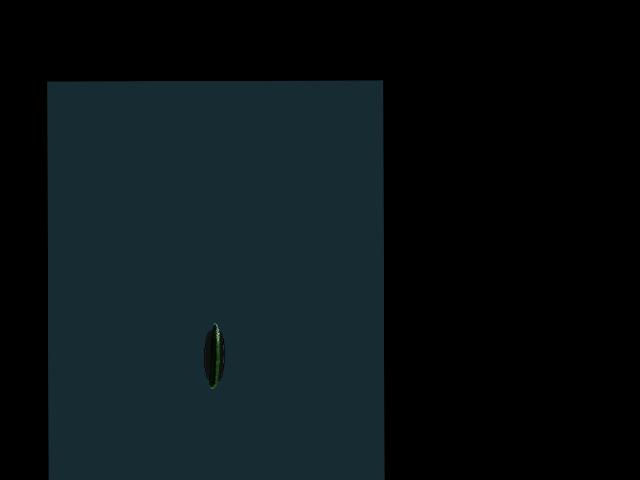cucumber: (208, 322, 219, 388)
